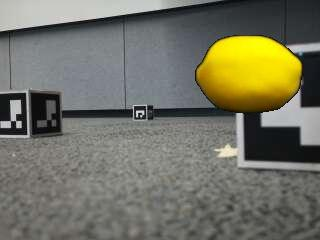lemon: (196, 38, 301, 114)
